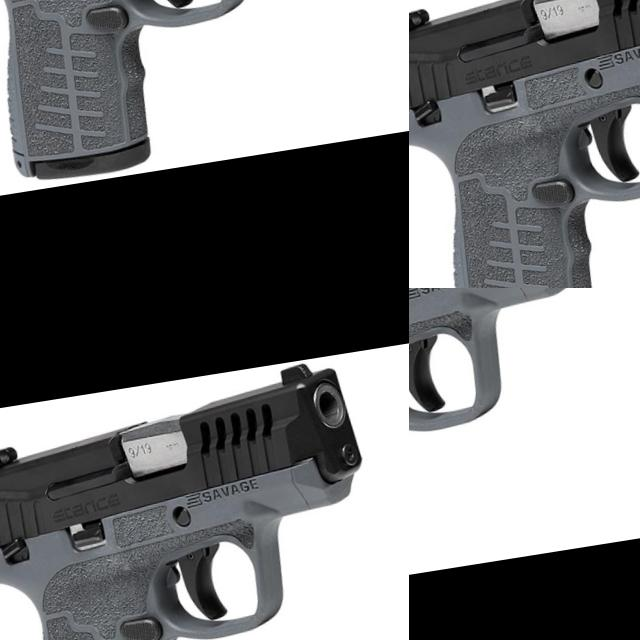handgun: (409, 288, 640, 601), (409, 0, 640, 288), (174, 0, 409, 163), (120, 568, 396, 640)
